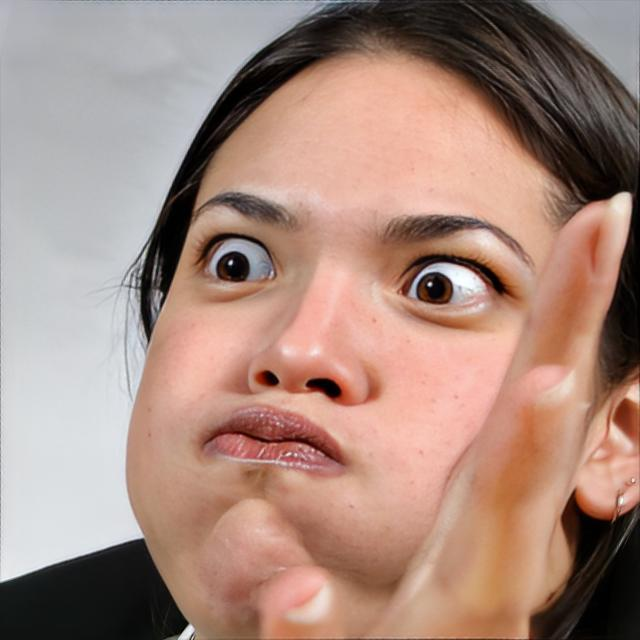fear: (121, 38, 614, 640)
